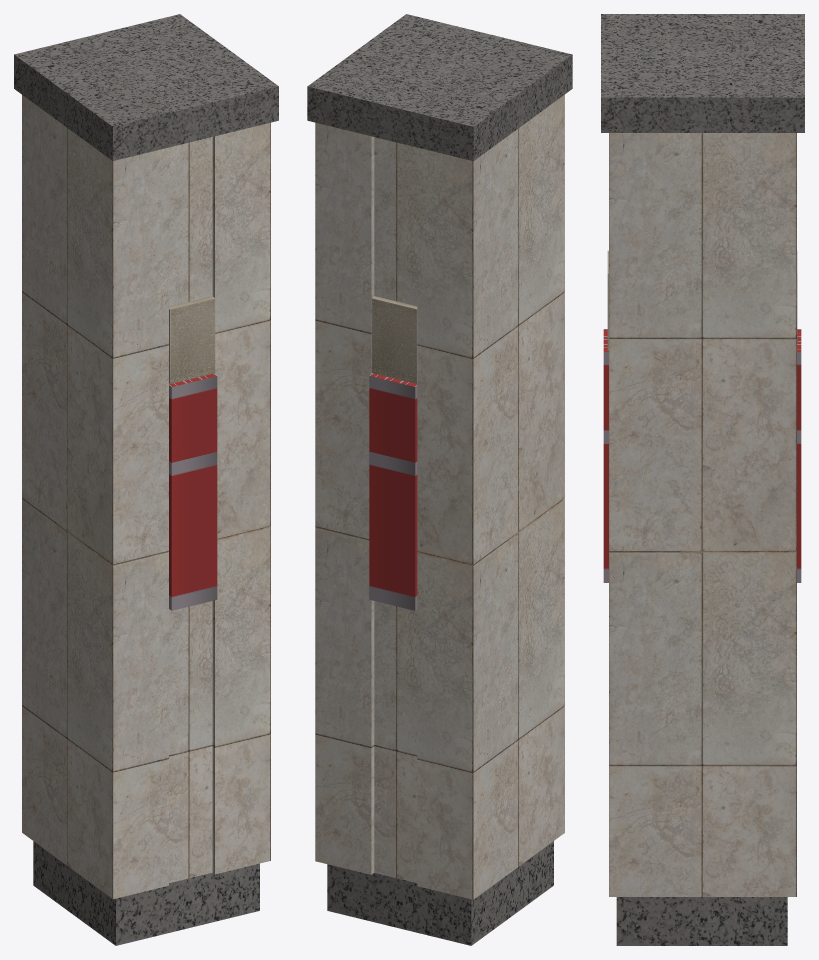
The model's file is Subway01_InterCalumn01.FBX.
3 views of the same model, side by side, from view 1: azimuth 30°, elevation 25°; view 2: azimuth 150°, elevation 25°; view 3: azimuth 270°, elevation 25° (orthographic). The views are drawn at different scales.
Parts seen in each view (by area): view 1: Subway01_InterCalumn01, Subway01_InterCalumn02, Subway01_InterCalumnDecor, Subway01_InterCalumnLight; view 2: Subway01_InterCalumn01, Subway01_InterCalumn02, Subway01_InterCalumnDecor, Subway01_InterCalumnLight; view 3: Subway01_InterCalumn01, Subway01_InterCalumn02, Subway01_InterCalumnDecor.
Boxes of the visible parts, <box> form: Subway01_InterCalumn01: <box>22,95,270,945</box>; Subway01_InterCalumn02: <box>14,14,278,160</box>; Subway01_InterCalumnDecor: <box>169,373,217,610</box>; Subway01_InterCalumnLight: <box>169,296,215,383</box>; Subway01_InterCalumn01: <box>315,95,564,945</box>; Subway01_InterCalumn02: <box>307,14,572,160</box>; Subway01_InterCalumnDecor: <box>369,373,417,610</box>; Subway01_InterCalumnLight: <box>371,296,417,383</box>; Subway01_InterCalumn01: <box>609,133,796,945</box>; Subway01_InterCalumn02: <box>601,14,804,132</box>; Subway01_InterCalumnDecor: <box>603,329,801,582</box>.
Bounding box in the file's own units: 1261 × 6005 × 1300.
